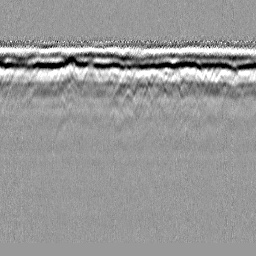cavity: (120, 88, 137, 108)
